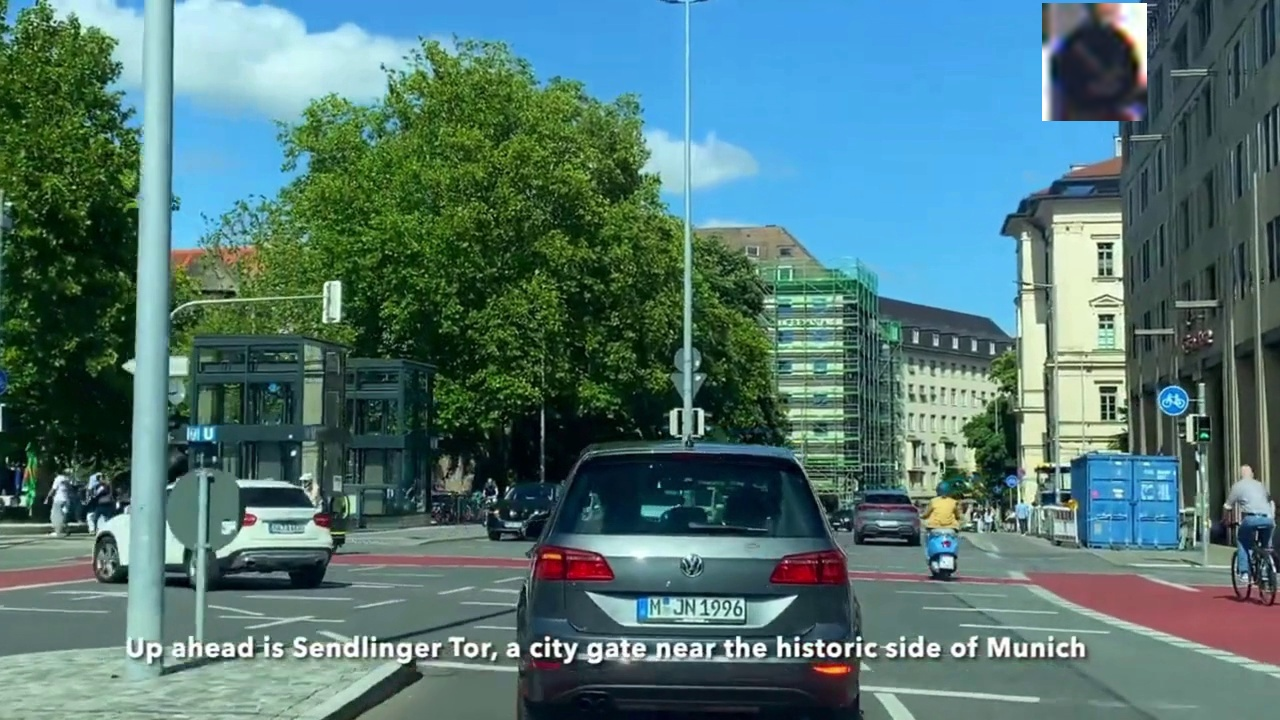Keep right: (1042, 3, 1147, 121)
